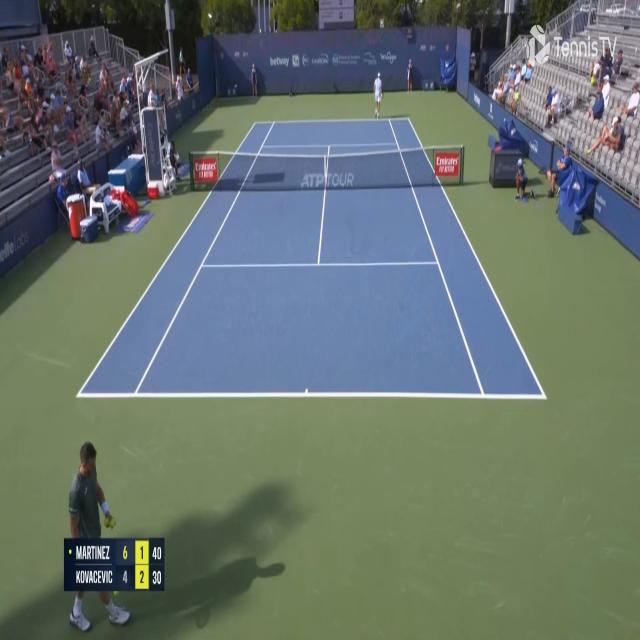tennis-player: (65, 435, 135, 637), (372, 70, 383, 121)
